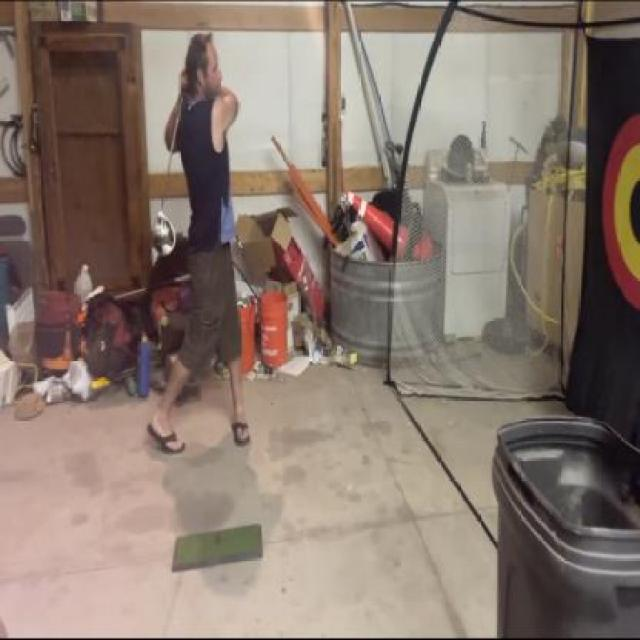club head: (150, 202, 178, 262)
